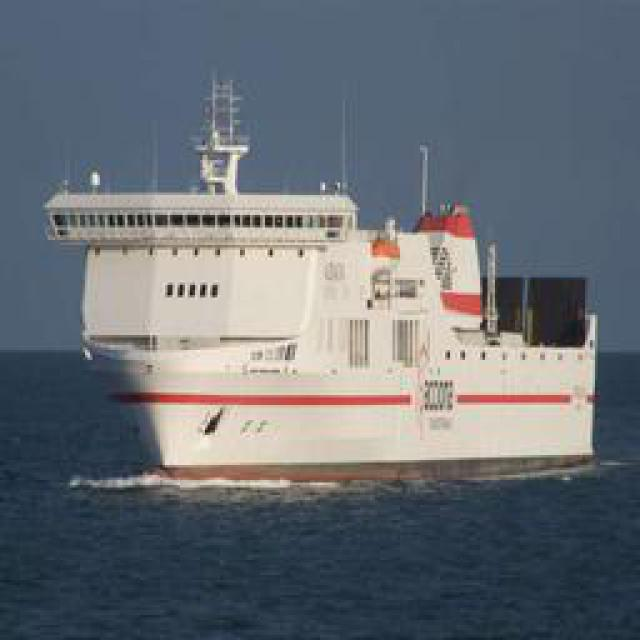Ship: (67, 126, 607, 491)
